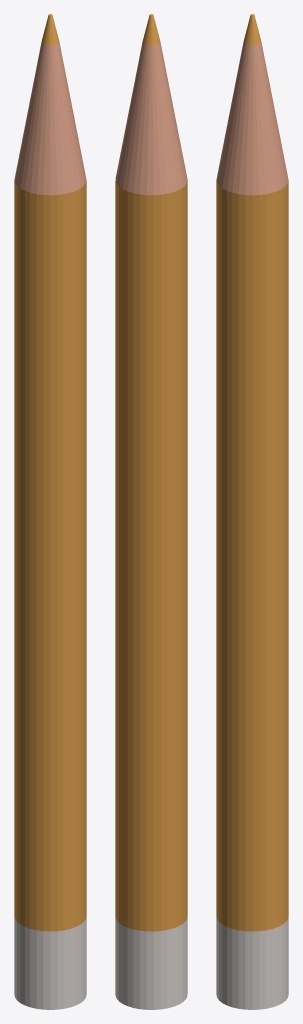
The model's file is pencil2.glb.
3 renders of one model, left to right at view 1: azimuth 90°, elevation 25°; view 2: azimuth 150°, elevation 25°; view 3: azimuth 270°, elevation 25°, orthographic.
Parts seen in each view (by area): view 1: Cylinder; view 2: Cylinder; view 3: Cylinder.
Boxes of the visible parts, box(x1,y1,x2,y2) form: Cylinder: box(14, 14, 86, 1009); Cylinder: box(115, 14, 187, 1009); Cylinder: box(216, 14, 288, 1009).
Bounding box in the file's own units: 0.1777 × 2.66 × 0.1777.
